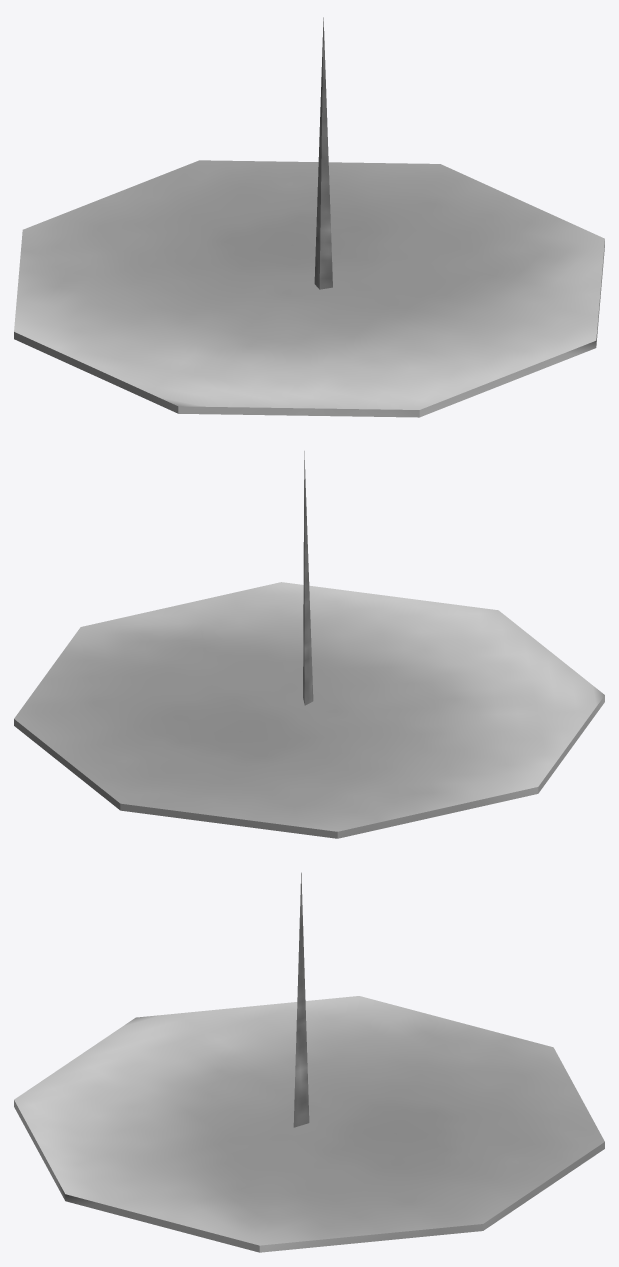
The model's file is ThumbTack.fbx.
The picture shows the model from 3 angles, top to bottom: view 1: azimuth 30°, elevation 25°; view 2: azimuth 150°, elevation 25°; view 3: azimuth 270°, elevation 25°; orthographic projection. The views are drawn at different scales.
Visible parts, largest first — view 1: Thumbtack; view 2: Thumbtack; view 3: Thumbtack.
Part boxes in pixels (x1,y1,x2,y2): Thumbtack: (14,17,604,417); Thumbtack: (14,451,604,838); Thumbtack: (14,872,604,1252).
Bounding box in the file's own units: 13.02 × 6.44 × 13.02.
